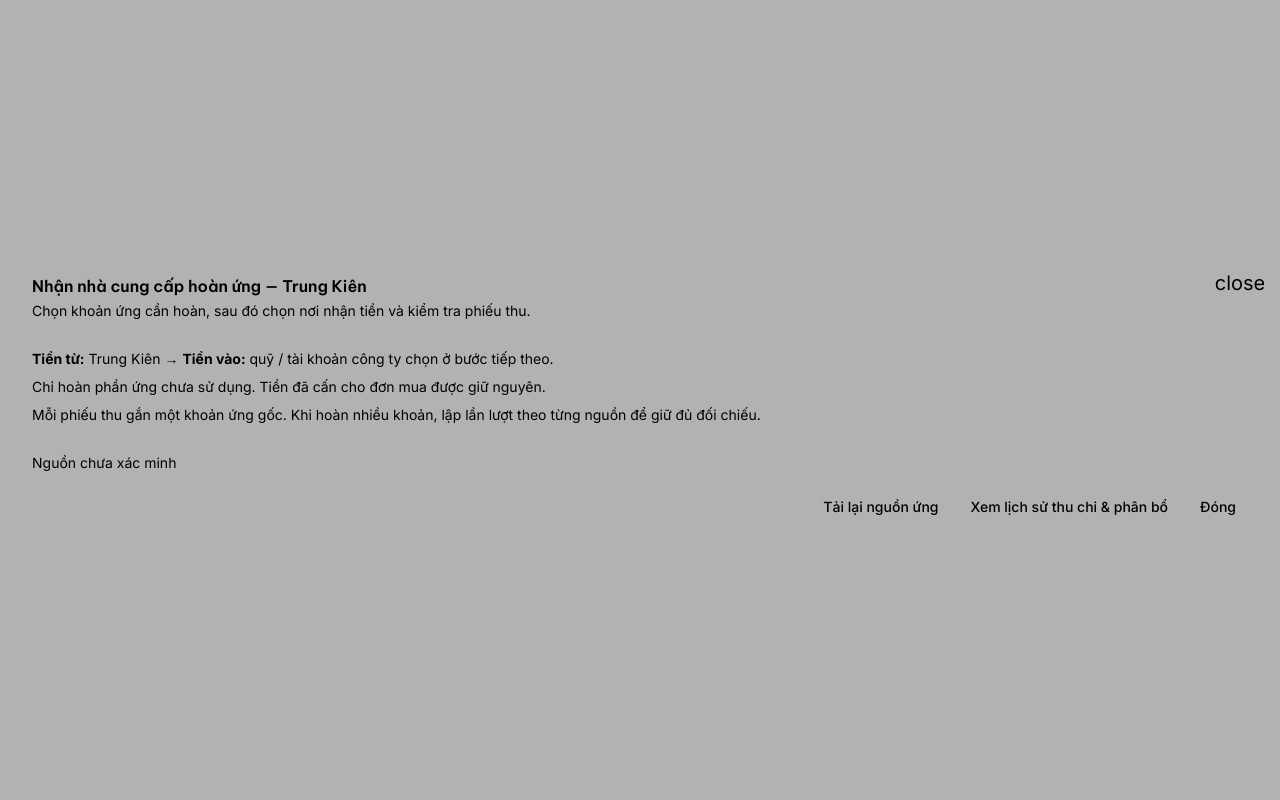
Test: supplier refund source workflow › fails closed on a ledger error and supports explicit reload
expect the message reads "Nguồn chưa xác minh": met, box [32,454,176,471]
expect the button "Nhận hoàn từ" is not shown: met
Click the button "Tải lại nguồn ứng": point(881, 507) [811,489,950,525]
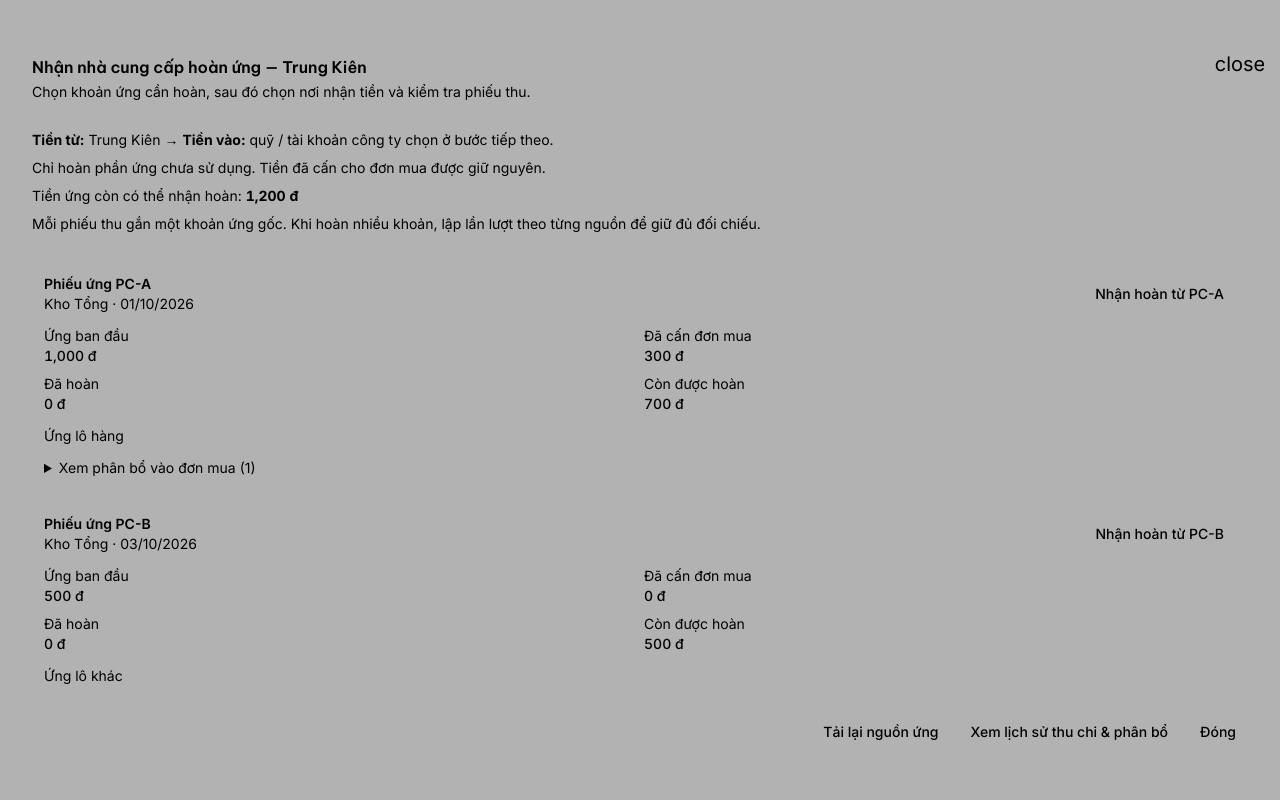
expect the button "Nhận hoàn từ PC-A" is shown: met, box [1083,276,1236,312]
